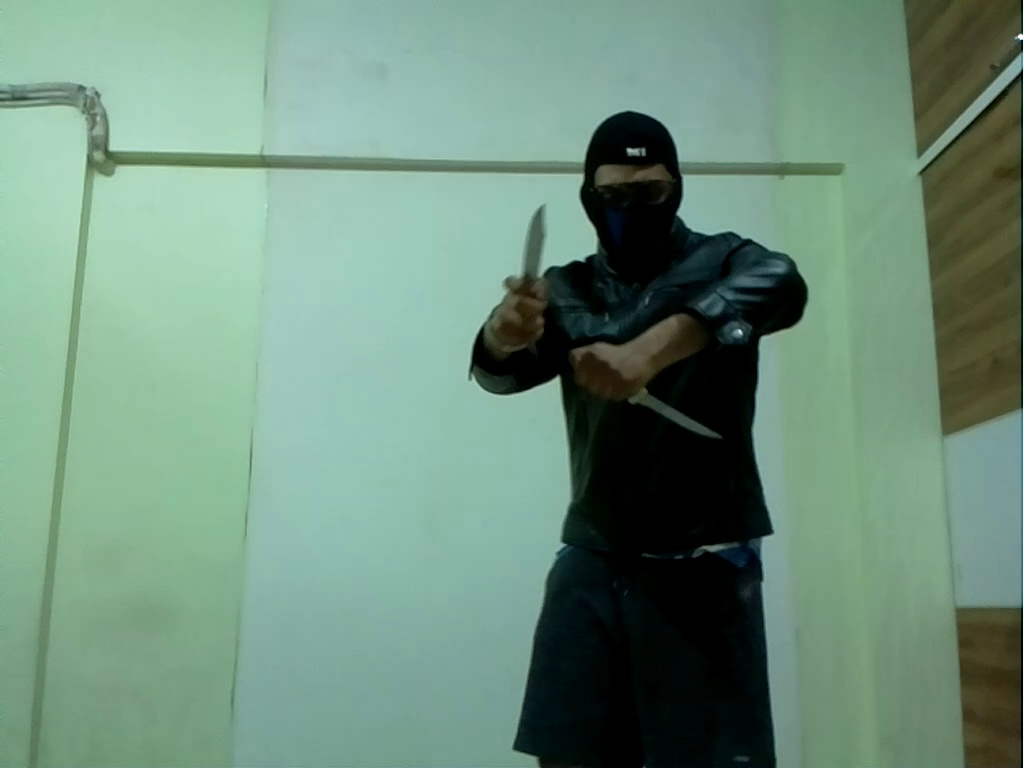knife: (617, 380, 735, 442), (519, 202, 551, 304)
